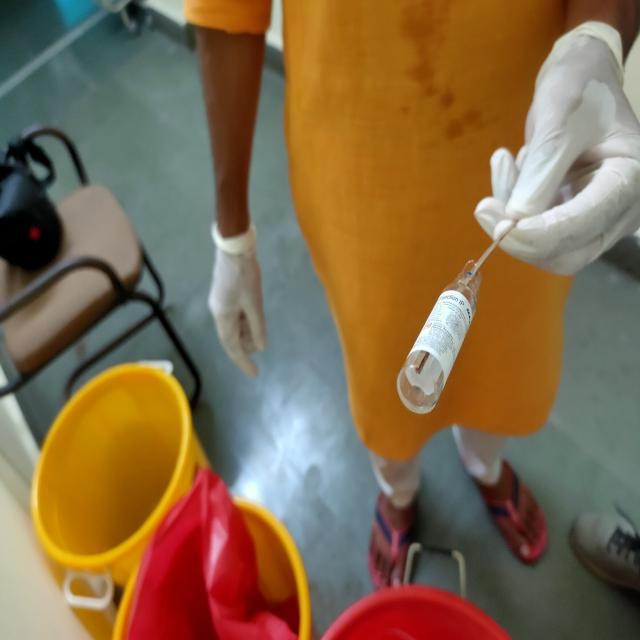B3: (398, 260, 494, 418)
